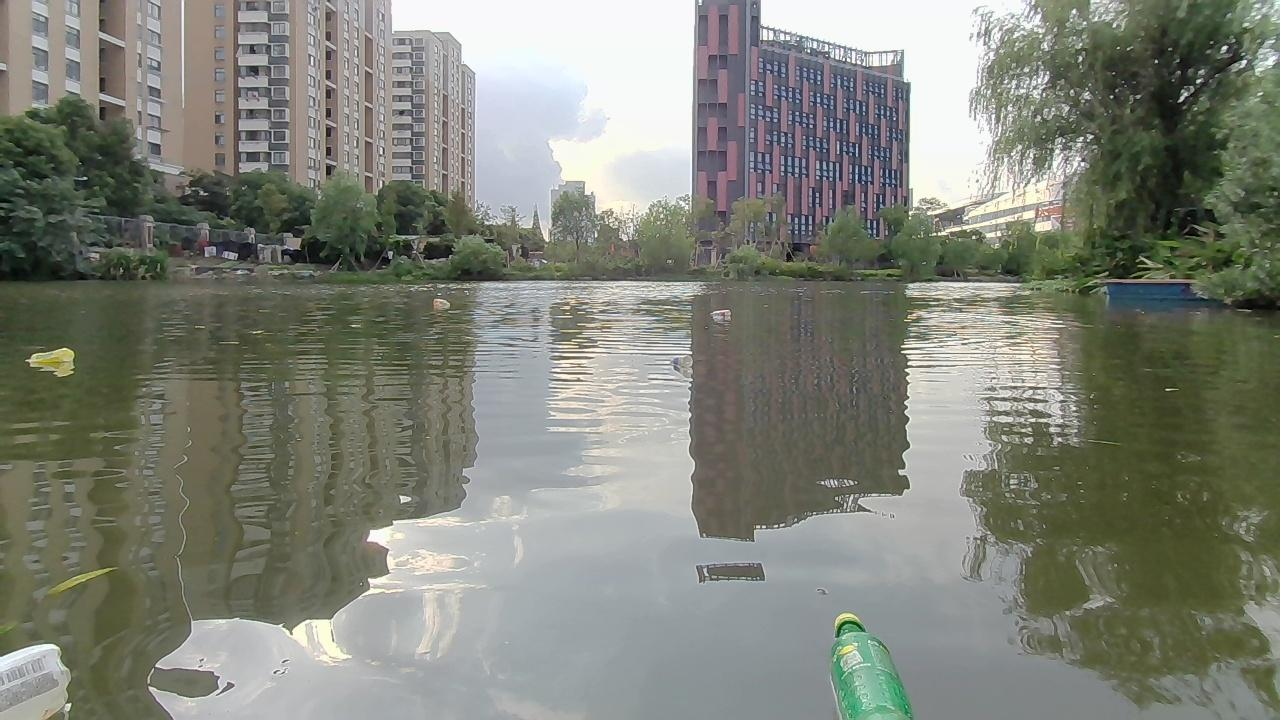bottle: (828, 607, 916, 719), (23, 343, 72, 373), (666, 352, 696, 372), (429, 292, 451, 312), (710, 307, 730, 321)
